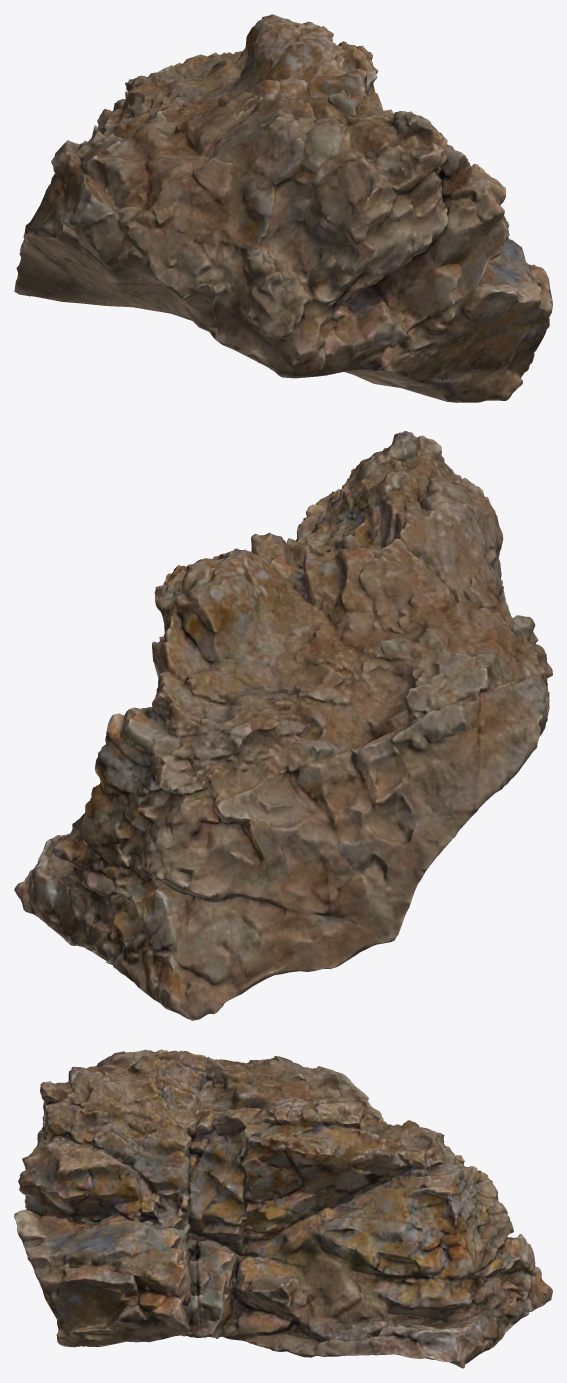
Rendered from boulder_01.glb.
The picture shows the model from 3 angles, top to bottom: view 1: azimuth 30°, elevation 25°; view 2: azimuth 150°, elevation 25°; view 3: azimuth 270°, elevation 25°; orthographic projection. The views are drawn at different scales.
Visible parts, largest first — view 1: boulder_01; view 2: boulder_01; view 3: boulder_01.
Part boxes in pixels (left/top/right/bottom): boulder_01: left=14, top=14, right=552, bottom=402; boulder_01: left=14, top=431, right=552, bottom=1020; boulder_01: left=14, top=1049, right=552, bottom=1368.
Size of the model in its own units: 1.27 by 1 by 1.83.
1 material, 1 textured.
